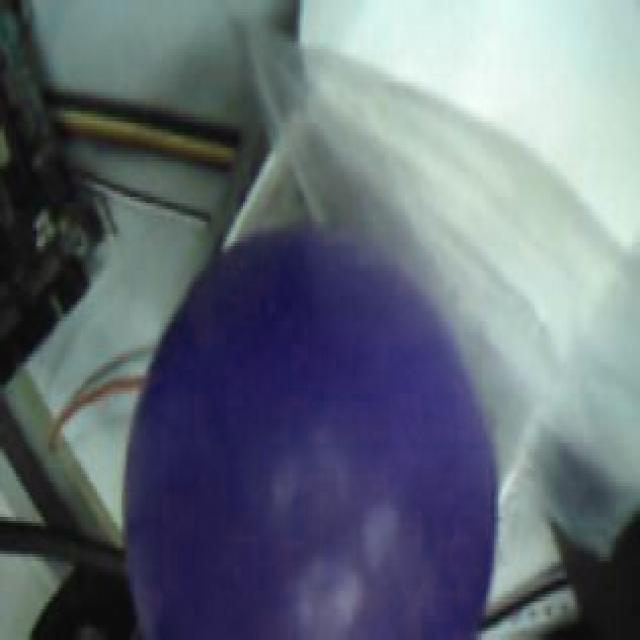BallPurple: (125, 227, 496, 640)
